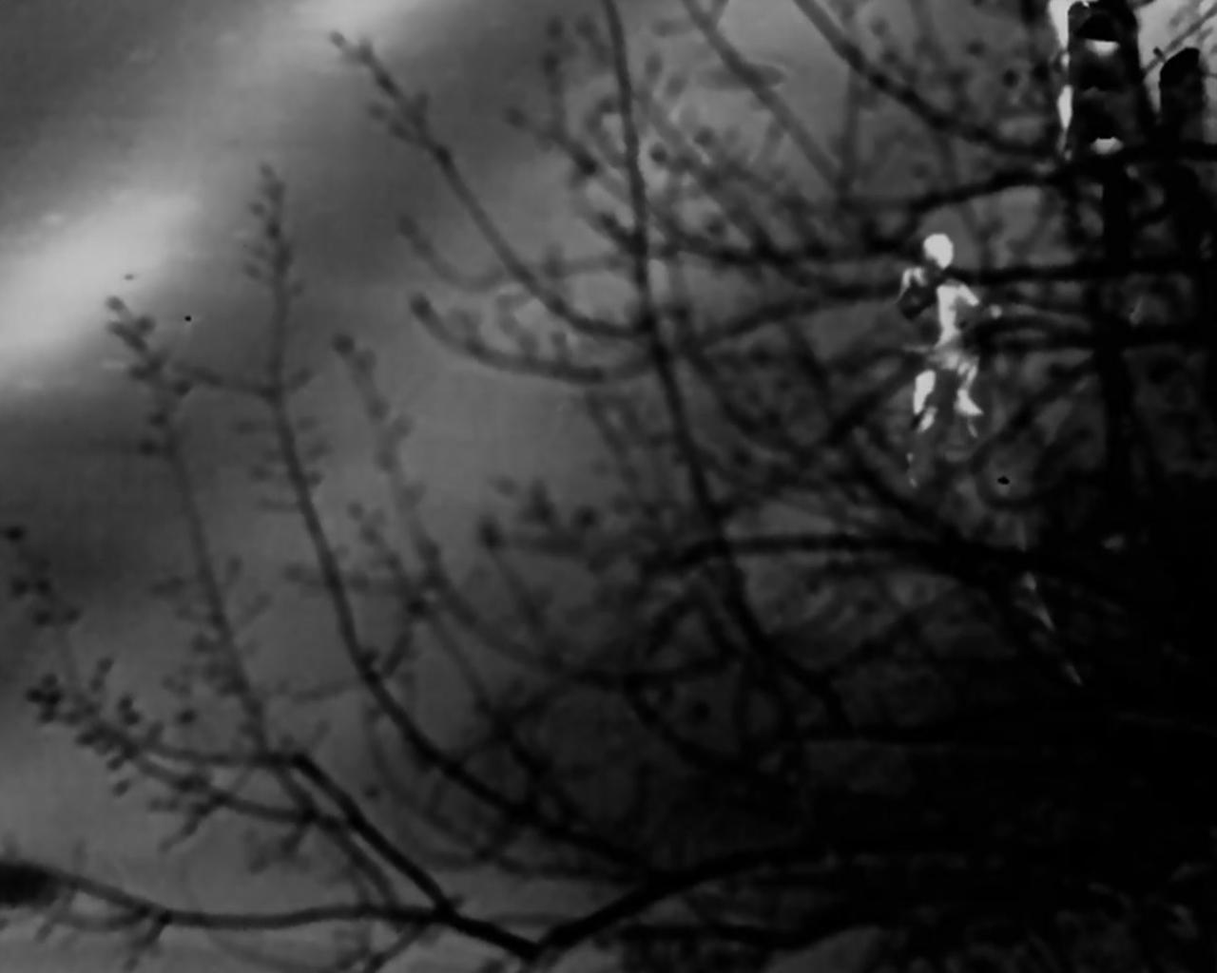person: (902, 234, 1008, 446)
